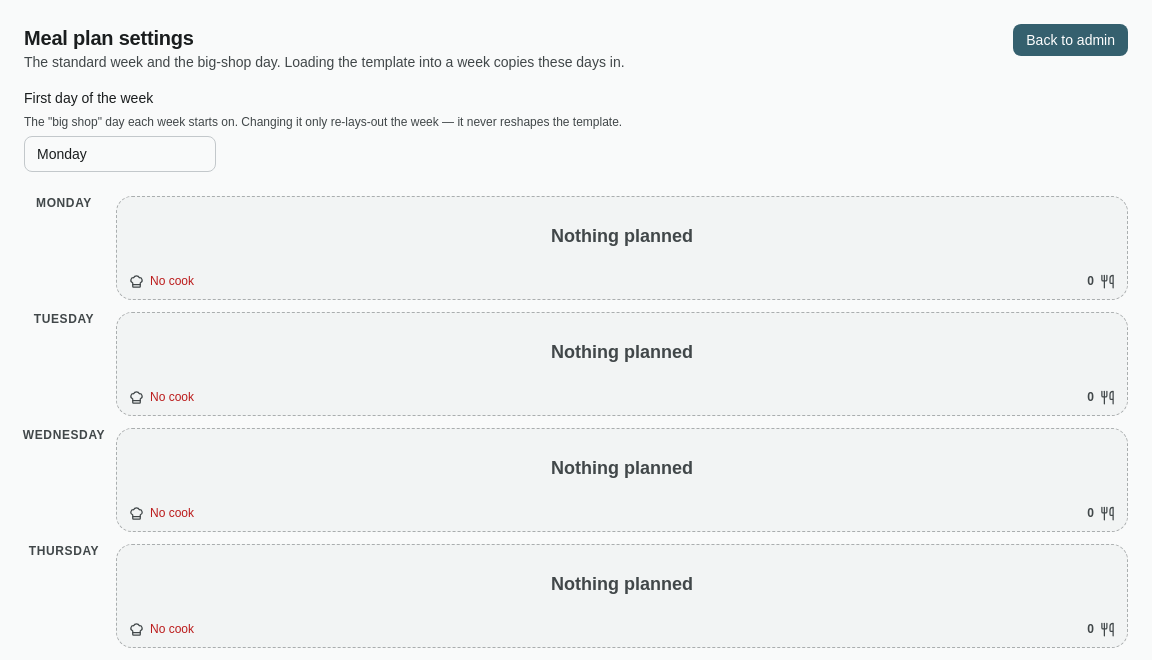
Scenario: AdminMealPlanPage › opens the weekday in a sheet titled with the weekday alone
The width and height of the screenshot is (1152, 660).
What coordinates should you click on to do the following:
click the button with test id "tmpl-wed-summary"
I would click on:
 (576, 480)
Its box is [24,428,1128,532].
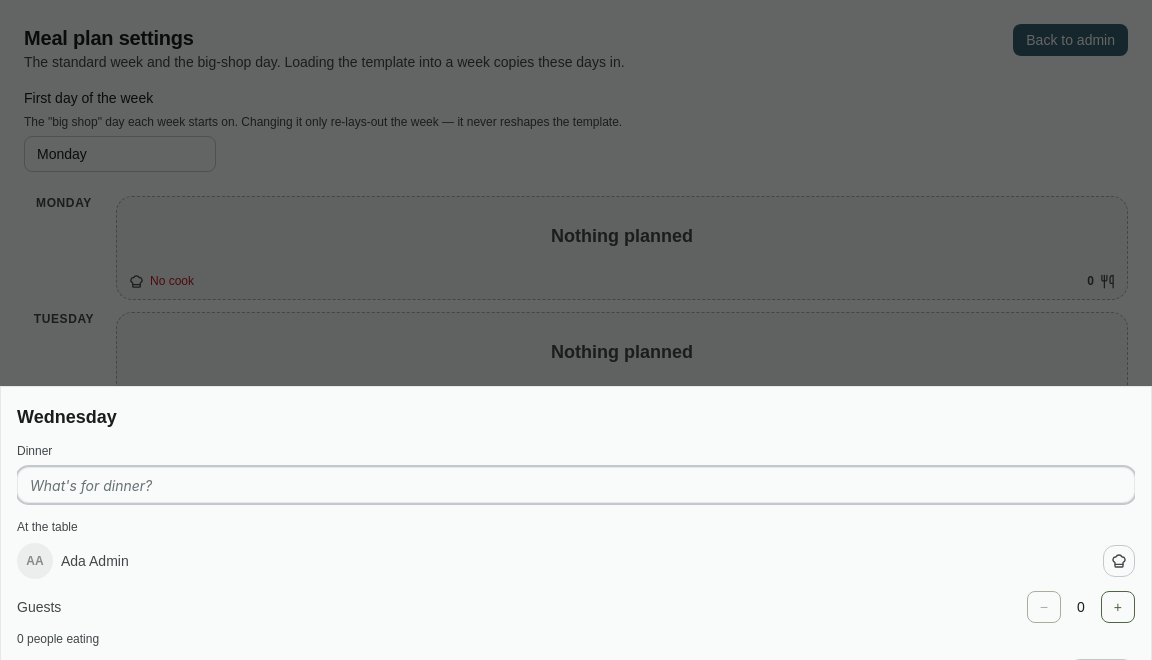
expect the heading "Wednesday" is shown: met, box [17,407,117,427]
